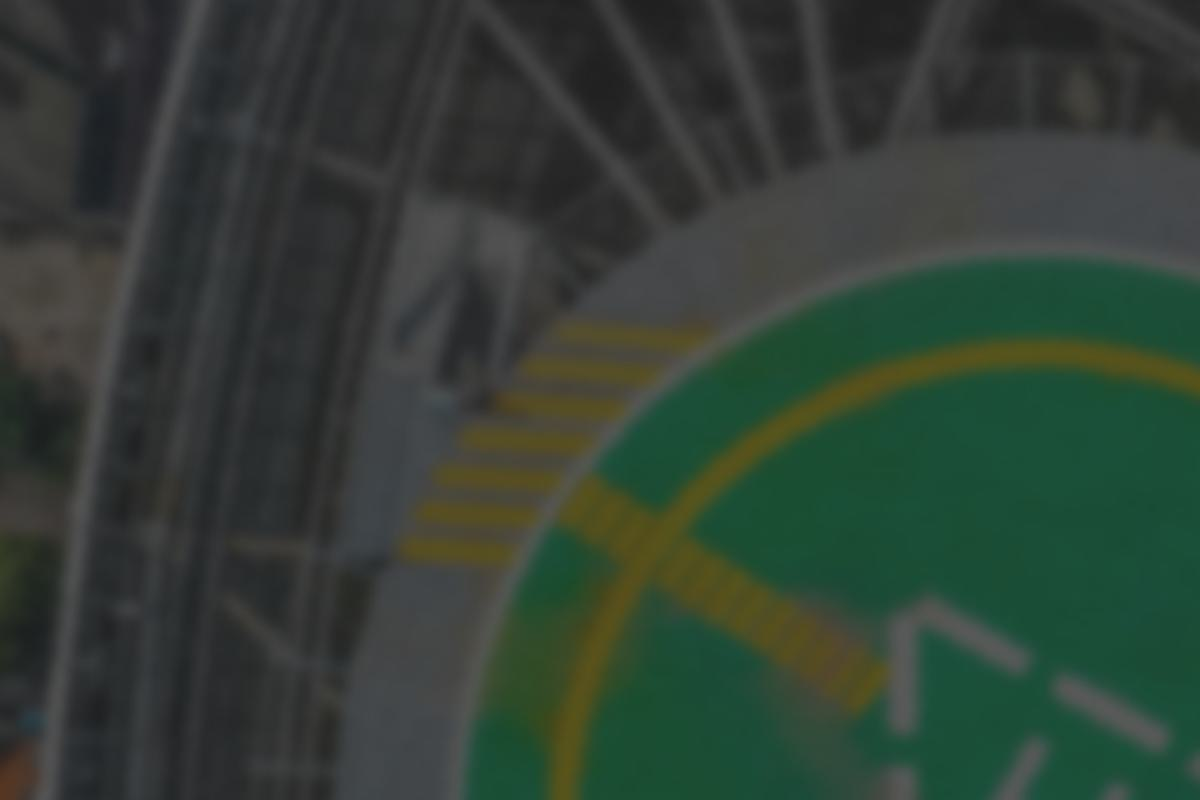Apron: (660, 451, 1200, 795)
